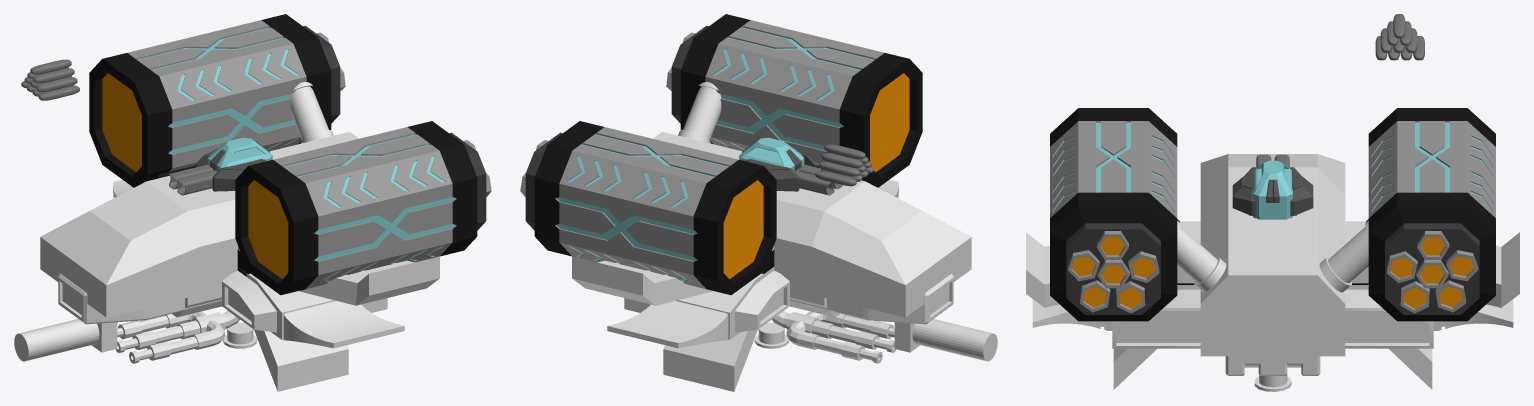
The model's file is Spaceship (1).fbx.
3 views of the same model, side by side, from view 1: azimuth 30°, elevation 25°; view 2: azimuth 150°, elevation 25°; view 3: azimuth 270°, elevation 25° (orthographic). The views are drawn at different scales.
Parts seen in each view (by area): view 1: Cube.009, Cube, Cube.004, Cylinder.003, Cube.001, Cube.008, Cylinder.001, Cube.003, Cube.012, Cube.017, Cylinder, Cube.007 (+3 smaller); view 2: Cube.009, Cube, Cube.004, Cylinder.003, Cube.001, Cube.008, Cylinder.001, Cube.003, Cube.017, Cylinder, Cube.012, Cube.007 (+3 smaller); view 3: Cube.009, Cube, Cube.004, Cube.001, Cylinder, Cube.007, Cube.008, Cube.012, Cube.017, Cube.003, Circle.
Part boxes in pixels (left/top/right/bottom): Cube.009: left=89, top=14, right=491, bottom=295; Cube: left=40, top=132, right=358, bottom=317; Cube.004: left=113, top=179, right=404, bottom=348; Cylinder.003: left=115, top=311, right=239, bottom=363; Cube.001: left=238, top=246, right=439, bottom=305; Cube.008: left=254, top=329, right=348, bottom=391; Cylinder.001: left=14, top=319, right=99, bottom=361; Cube.003: left=58, top=274, right=221, bottom=324; Cube.012: left=169, top=148, right=266, bottom=195; Cube.017: left=21, top=59, right=79, bottom=100; Cylinder: left=290, top=82, right=333, bottom=143; Cube.007: left=207, top=137, right=272, bottom=171; Cube.009: left=520, top=14, right=922, bottom=295; Cube: left=653, top=132, right=971, bottom=317; Cube.004: left=607, top=179, right=898, bottom=348; Cylinder.003: left=772, top=311, right=896, bottom=363; Cube.001: left=572, top=246, right=773, bottom=305; Cube.008: left=663, top=329, right=757, bottom=391; Cylinder.001: left=912, top=319, right=997, bottom=361; Cube.003: left=790, top=274, right=953, bottom=324; Cube.017: left=815, top=144, right=873, bottom=186; Cylinder: left=678, top=82, right=721, bottom=143; Cube.012: left=745, top=148, right=842, bottom=195; Cube.007: left=739, top=137, right=804, bottom=171; Cube.009: left=1050, top=108, right=1495, bottom=321; Cube: left=1200, top=154, right=1345, bottom=356; Cube.004: left=1032, top=285, right=1513, bottom=348; Cube.001: left=1026, top=221, right=1519, bottom=307; Cylinder: left=1177, top=220, right=1368, bottom=292; Cube.007: left=1249, top=160, right=1296, bottom=219; Cube.008: left=1113, top=348, right=1432, bottom=389; Cube.012: left=1232, top=154, right=1313, bottom=215; Cube.017: left=1375, top=14, right=1424, bottom=60; Cube.003: left=1225, top=356, right=1320, bottom=375; Circle: left=1254, top=374, right=1291, bottom=391.
Size of the model in its own units: 1062 by 721 by 1106.
